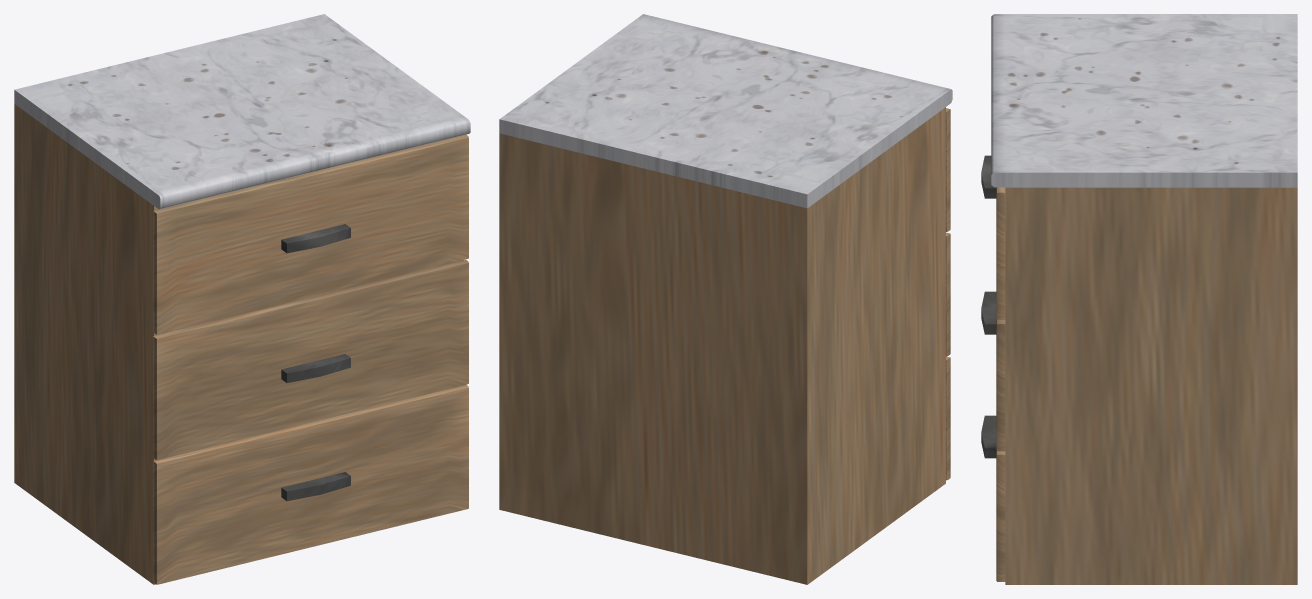
File: CounterTop02.fbx
3 views of the same model, side by side, from view 1: azimuth 30°, elevation 25°; view 2: azimuth 150°, elevation 25°; view 3: azimuth 270°, elevation 25° (orthographic). The views are drawn at different scales.
Visible parts, largest first — view 1: CounterTop02; view 2: CounterTop02; view 3: CounterTop02.
Part boxes in pixels (left/top/right/bottom): CounterTop02: left=14, top=14, right=470, bottom=584; CounterTop02: left=499, top=14, right=952, bottom=584; CounterTop02: left=981, top=14, right=1297, bottom=584.
Bounding box in the file's own units: 70.64 × 84.81 × 58.99.
1 material, 1 textured.
